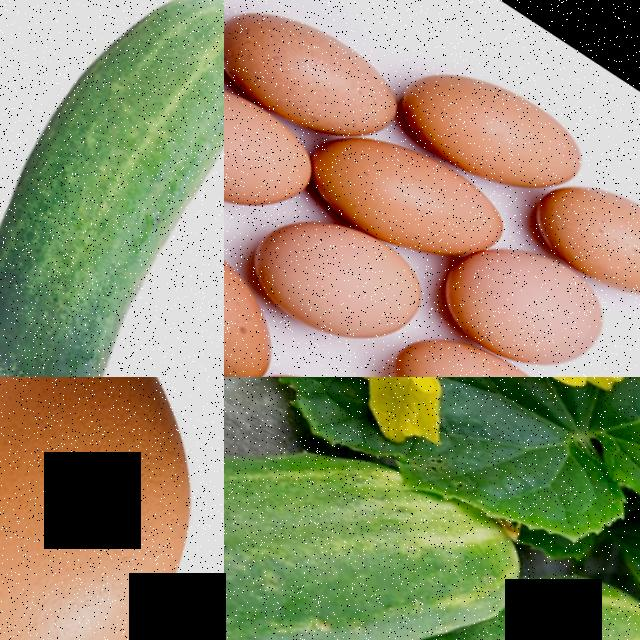cucumber: (0, 0, 224, 377), (224, 377, 432, 640), (387, 508, 640, 640)
egg_: (0, 377, 224, 640), (310, 93, 520, 288), (240, 172, 437, 369), (397, 31, 597, 219), (434, 198, 626, 377), (224, 0, 413, 163), (224, 34, 332, 248), (527, 139, 640, 317), (376, 292, 595, 377), (224, 195, 305, 377), (225, 333, 446, 377)
